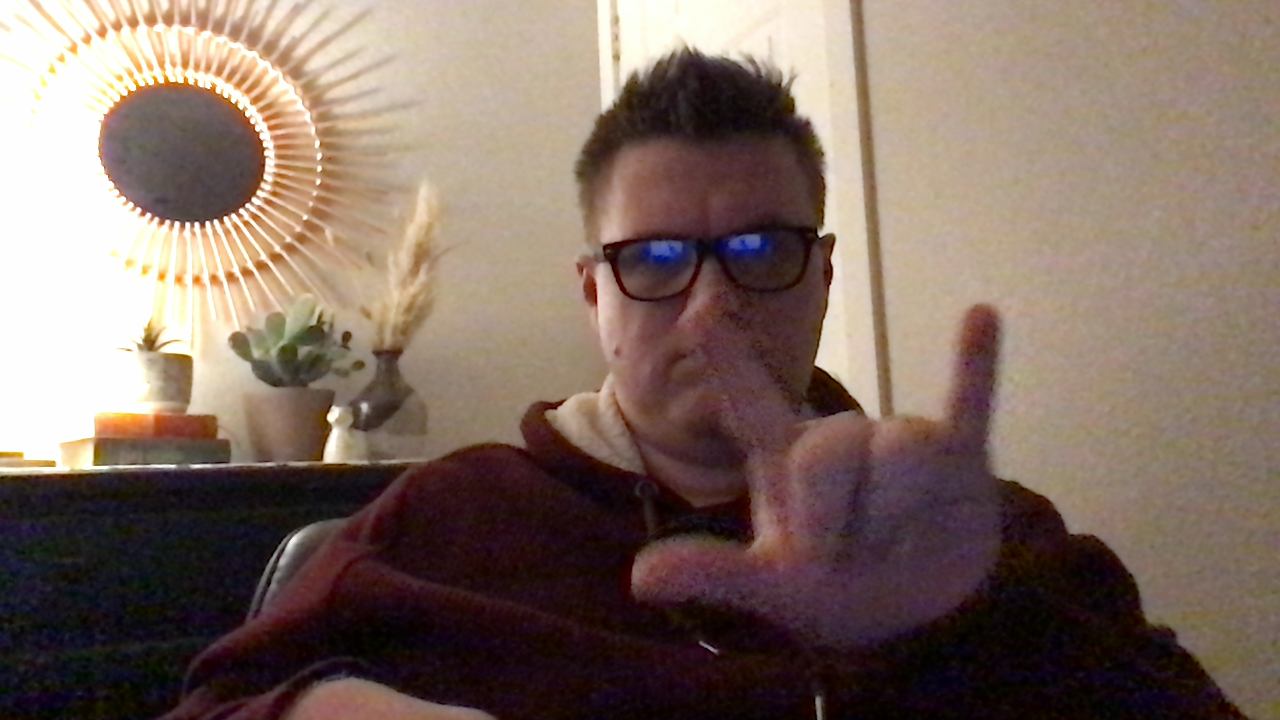iloveyou: (622, 301, 1021, 639)
